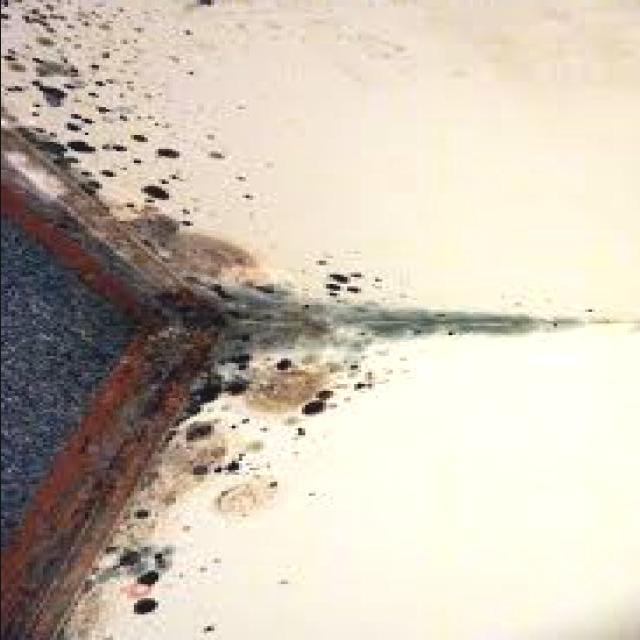dampens: (8, 3, 262, 615)
dampness: (58, 217, 557, 396)
